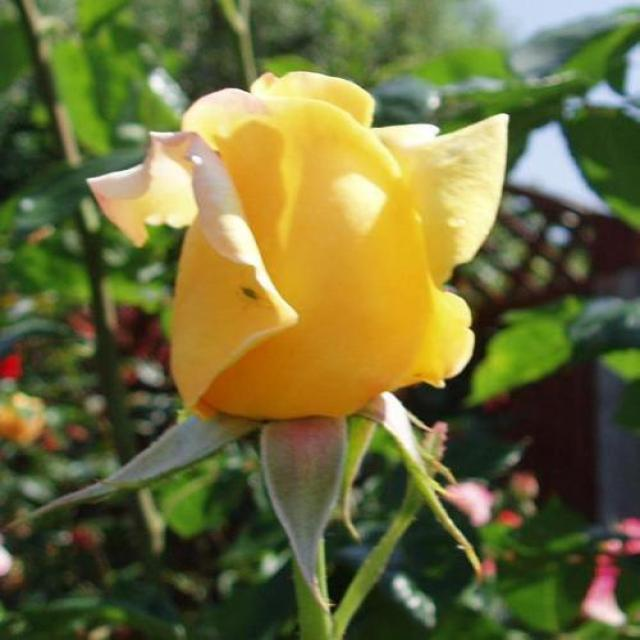rose: (74, 44, 524, 470)
